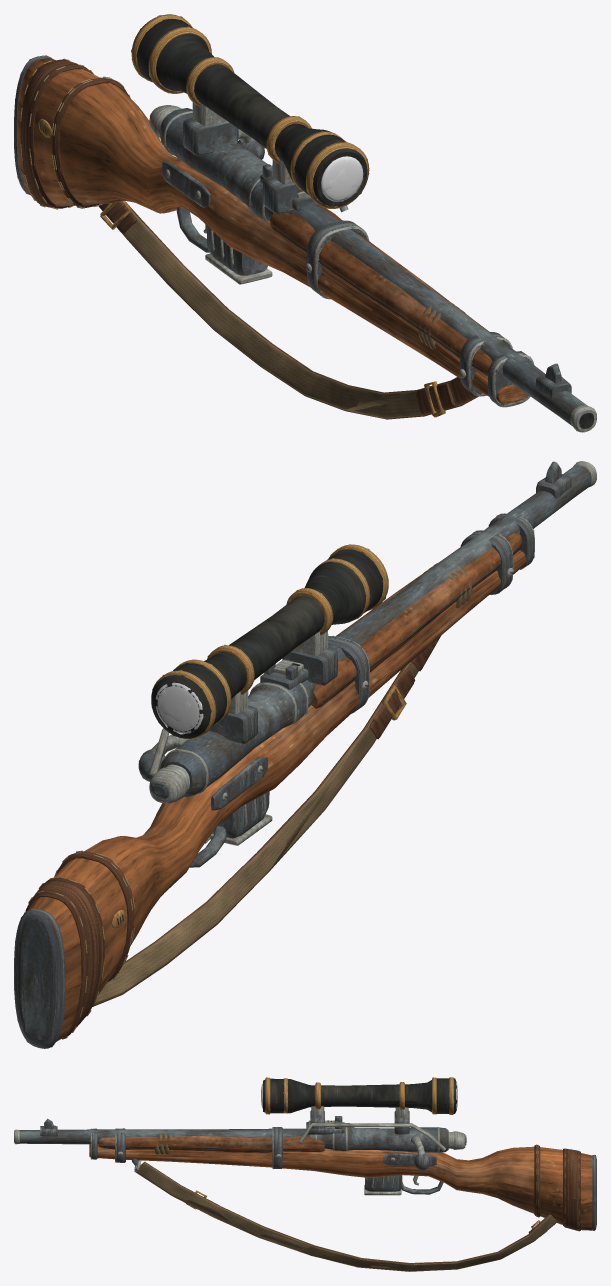
The model's file is ObserverCarbine.fbx.
The picture shows the model from 3 angles, top to bottom: view 1: azimuth 30°, elevation 25°; view 2: azimuth 150°, elevation 25°; view 3: azimuth 270°, elevation 25°; orthographic projection. The views are drawn at different scales.
Parts seen in each view (by area): view 1: Field_carbine, Distant_carbine, FieldFeed; view 2: Field_carbine, Distant_carbine, FieldFeed; view 3: Field_carbine, Distant_carbine, FieldFeed.
Part boxes in pixels (bbox=[...]): Field_carbine: bbox=[14, 14, 596, 432]; Distant_carbine: bbox=[14, 15, 596, 432]; FieldFeed: bbox=[205, 226, 272, 284]; Field_carbine: bbox=[14, 461, 596, 1048]; Distant_carbine: bbox=[14, 461, 596, 1048]; FieldFeed: bbox=[210, 791, 272, 845]; Field_carbine: bbox=[14, 1077, 596, 1271]; Distant_carbine: bbox=[14, 1077, 596, 1271]; FieldFeed: bbox=[364, 1175, 402, 1195].
Bounding box in the file's own units: 0.1254 × 0.3949 × 1.17.
